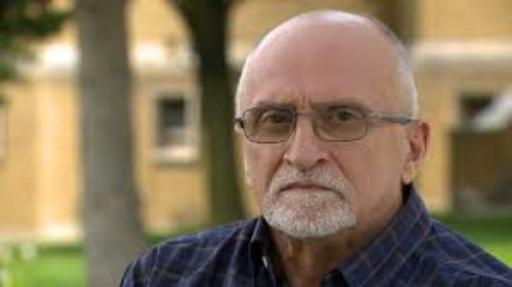left_eye: (321, 114, 363, 126)
left_lip_corner: (325, 186, 344, 197)
right_eye: (262, 112, 295, 128)
right_lip_corner: (276, 186, 292, 196)
